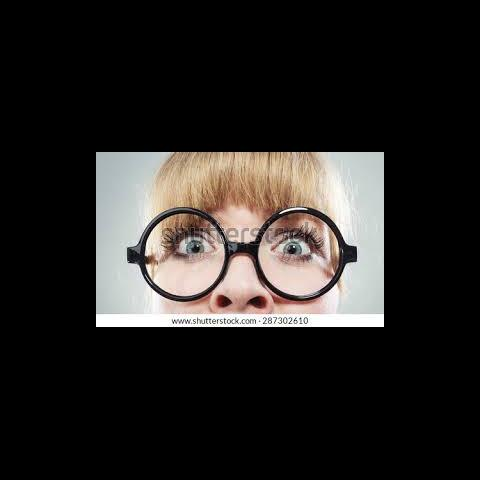opened: (159, 213, 334, 269)
